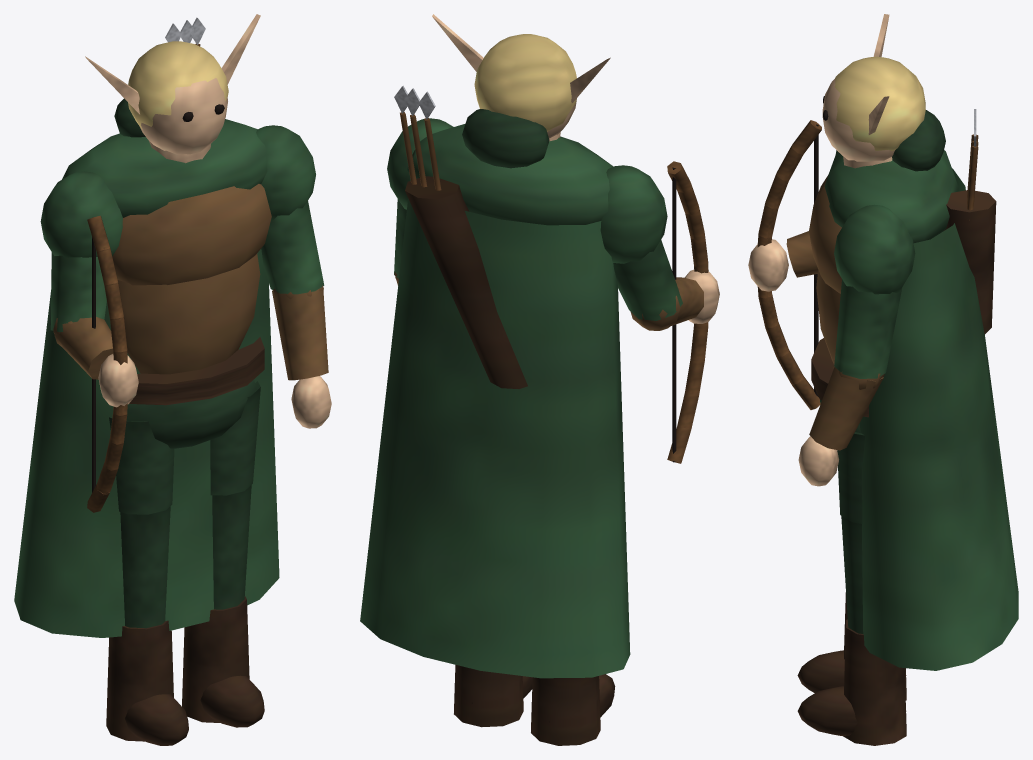
Rendered from ranger.obj.
The picture shows the model from 3 angles, left to right: view 1: azimuth 30°, elevation 25°; view 2: azimuth 150°, elevation 25°; view 3: azimuth 270°, elevation 25°; orthographic projection. The views are drawn at different scales.
Size of the model in its own units: 2.74 by 6.53 by 2.42.
Materials: 1 (1 with a texture image).
